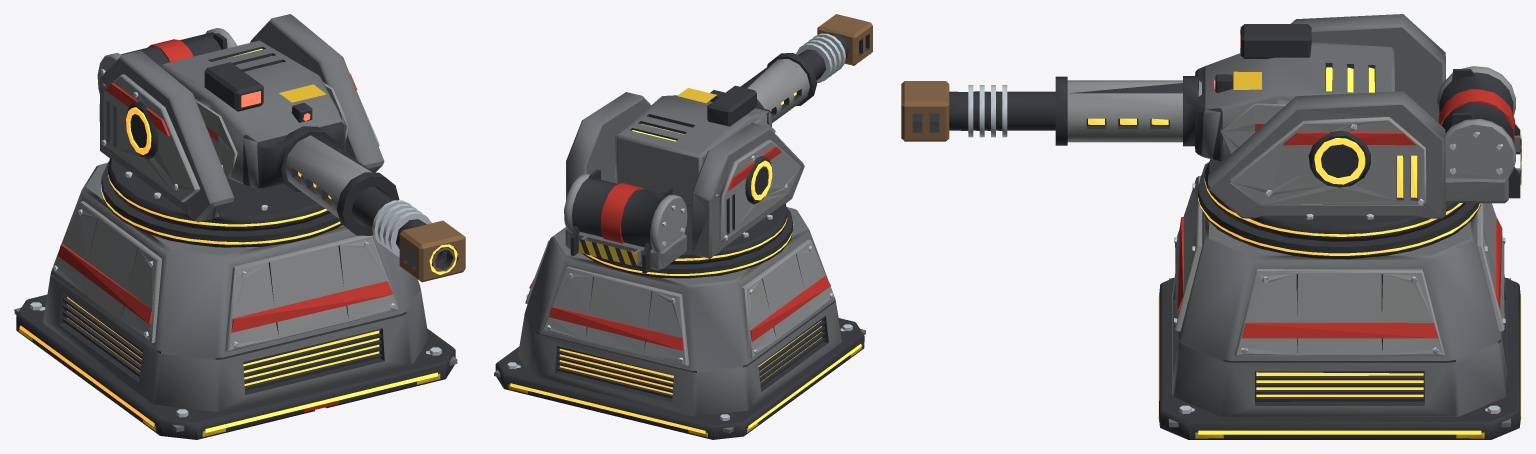
The model's file is R4W_Basic_LOD1.glb.
The picture shows the model from 3 angles, left to right: view 1: azimuth 30°, elevation 25°; view 2: azimuth 150°, elevation 25°; view 3: azimuth 270°, elevation 25°; orthographic projection. The views are drawn at different scales.
Visible parts, largest first — view 1: R4W_Basic_LOD1; view 2: R4W_Basic_LOD1; view 3: R4W_Basic_LOD1.
Boxes of the visible parts, x1,y1,x2,y2 form: R4W_Basic_LOD1: (14,14,465,439); R4W_Basic_LOD1: (494,14,872,439); R4W_Basic_LOD1: (901,14,1521,439).
Size of the model in its own units: 0.5127 by 0.496 by 0.877.
